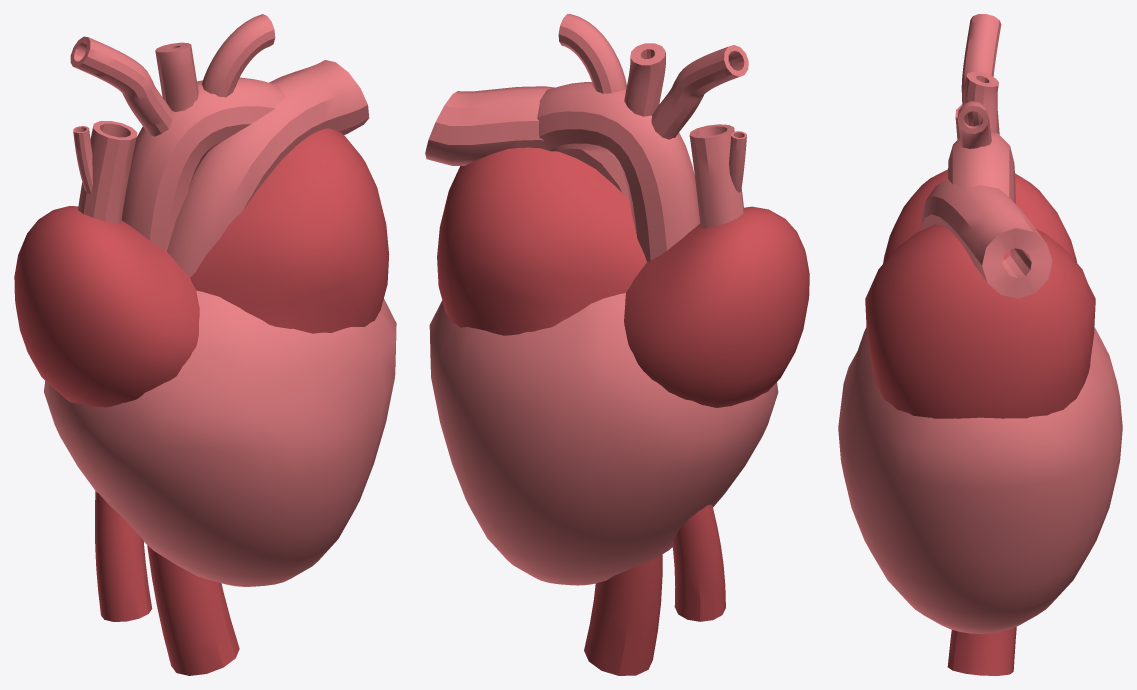
File: heart.fbx
3 renders of one model, left to right at view 1: azimuth 30°, elevation 25°; view 2: azimuth 150°, elevation 25°; view 3: azimuth 270°, elevation 25°, orthographic. The views are drawn at different scales.
Parts seen in each view (by area): view 1: Sphere, Sphere.001, Sphere.002, BézierCurve.007, BézierCurve.003, BézierCurve.001, BézierCurve, BézierCurve.006, BézierCurve.002, BézierCurve.005, BézierCurve.004, BézierCurve.008; view 2: Sphere, Sphere.002, Sphere.001, BézierCurve.003, BézierCurve.007, BézierCurve.001, BézierCurve, BézierCurve.002, BézierCurve.006, BézierCurve.005, BézierCurve.004, BézierCurve.008; view 3: Sphere, Sphere.002, BézierCurve.007, Sphere.001, BézierCurve.003, BézierCurve.001, BézierCurve.006, BézierCurve.005, BézierCurve.004.
Part boxes in pixels (x1,y1,x2,y2): Sphere: [44, 290, 396, 586]; Sphere.001: [14, 206, 199, 407]; Sphere.002: [190, 128, 389, 333]; BézierCurve.007: [167, 60, 369, 277]; BézierCurve.003: [121, 77, 284, 251]; BézierCurve.001: [147, 545, 239, 675]; BézierCurve: [95, 491, 152, 621]; BézierCurve.006: [70, 36, 172, 136]; BézierCurve.002: [78, 121, 137, 223]; BézierCurve.005: [201, 14, 275, 97]; BézierCurve.004: [155, 42, 198, 111]; BézierCurve.008: [73, 126, 92, 193]; Sphere: [429, 293, 778, 585]; Sphere.002: [437, 147, 646, 335]; Sphere.001: [624, 206, 809, 407]; BézierCurve.003: [537, 82, 700, 262]; BézierCurve.007: [425, 86, 629, 199]; BézierCurve.001: [584, 554, 662, 675]; BézierCurve: [672, 504, 725, 621]; BézierCurve.002: [689, 124, 744, 228]; BézierCurve.006: [651, 45, 748, 139]; BézierCurve.005: [558, 14, 626, 93]; BézierCurve.004: [624, 43, 665, 116]; BézierCurve.008: [729, 131, 746, 192]; Sphere: [838, 327, 1122, 633]; Sphere.002: [865, 224, 1095, 418]; BézierCurve.007: [921, 179, 1052, 298]; Sphere.001: [883, 169, 1077, 263]; BézierCurve.003: [948, 133, 1015, 203]; BézierCurve.001: [947, 627, 1016, 675]; BézierCurve.006: [961, 14, 1001, 104]; BézierCurve.005: [957, 101, 991, 148]; BézierCurve.004: [963, 71, 998, 133].
Bounding box in the file's own units: 265 × 474 × 200.
